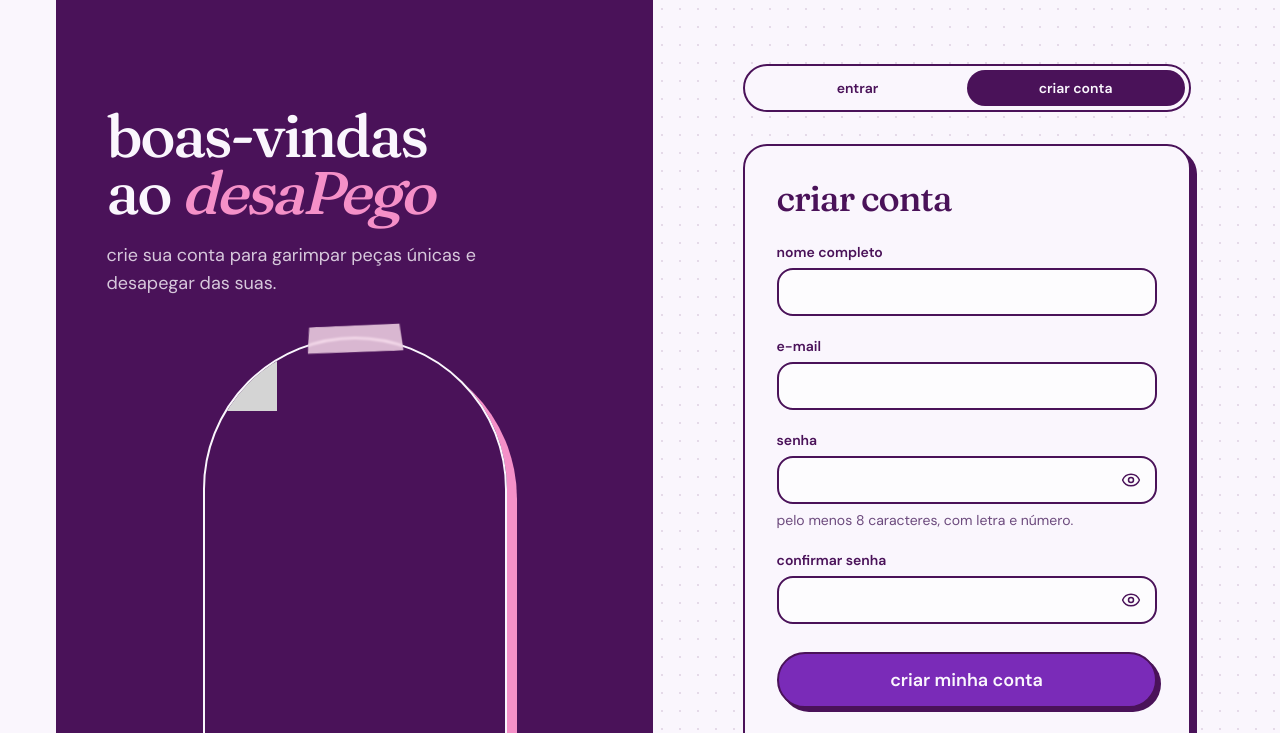
Test case: PaginaConta › mostra a mensagem do backend para e-mail já cadastrado
Type "Ana Souza" into the field labelled "nome completo" at (966, 292), box [776,268,1156,316]
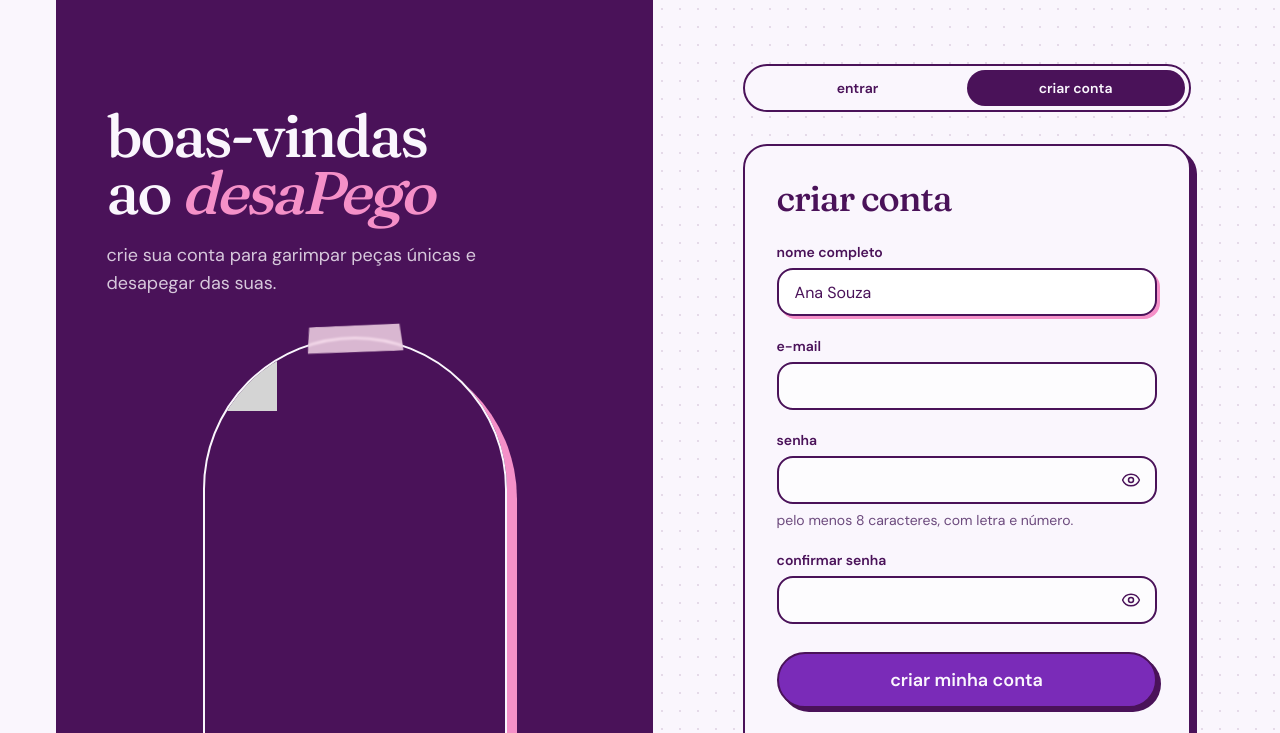
Type "ana@exemplo.com" into the field labelled "e-mail" at (966, 386), box [776,362,1156,410]
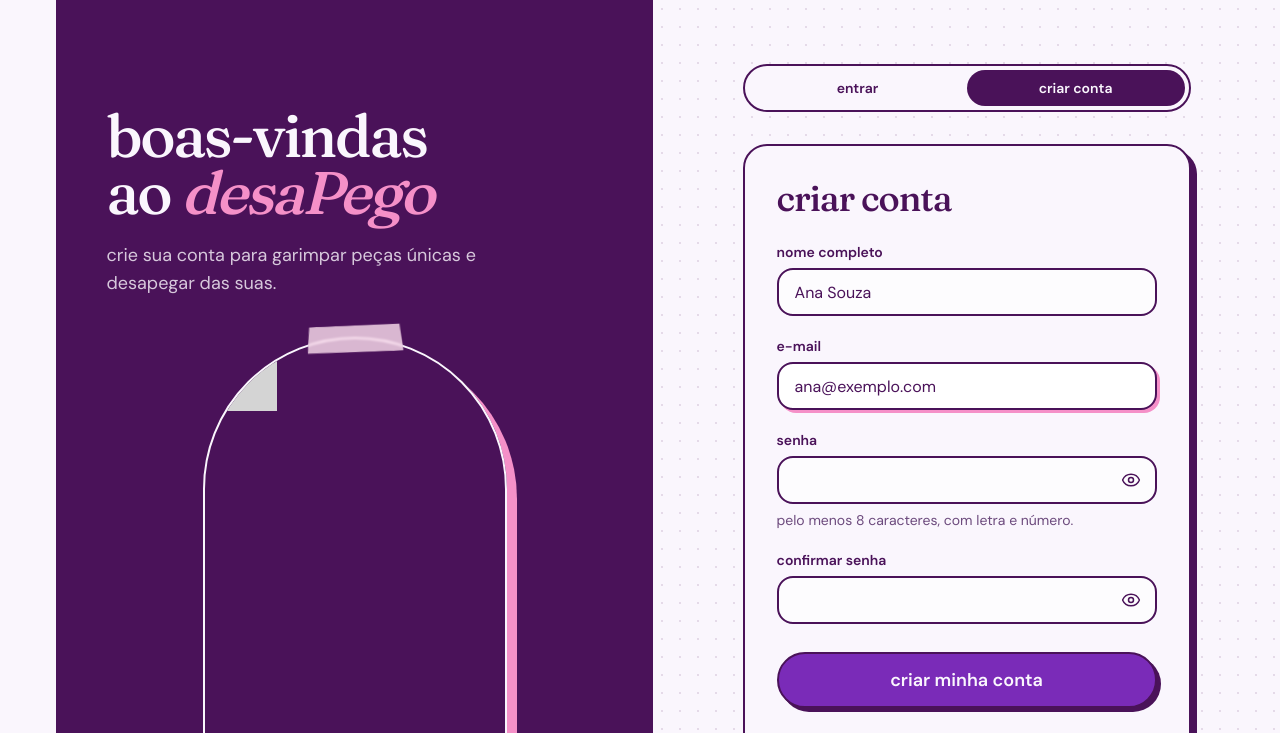
Type "garimpo123" into the password field labelled "senha" at (966, 480), box [776,456,1156,504]
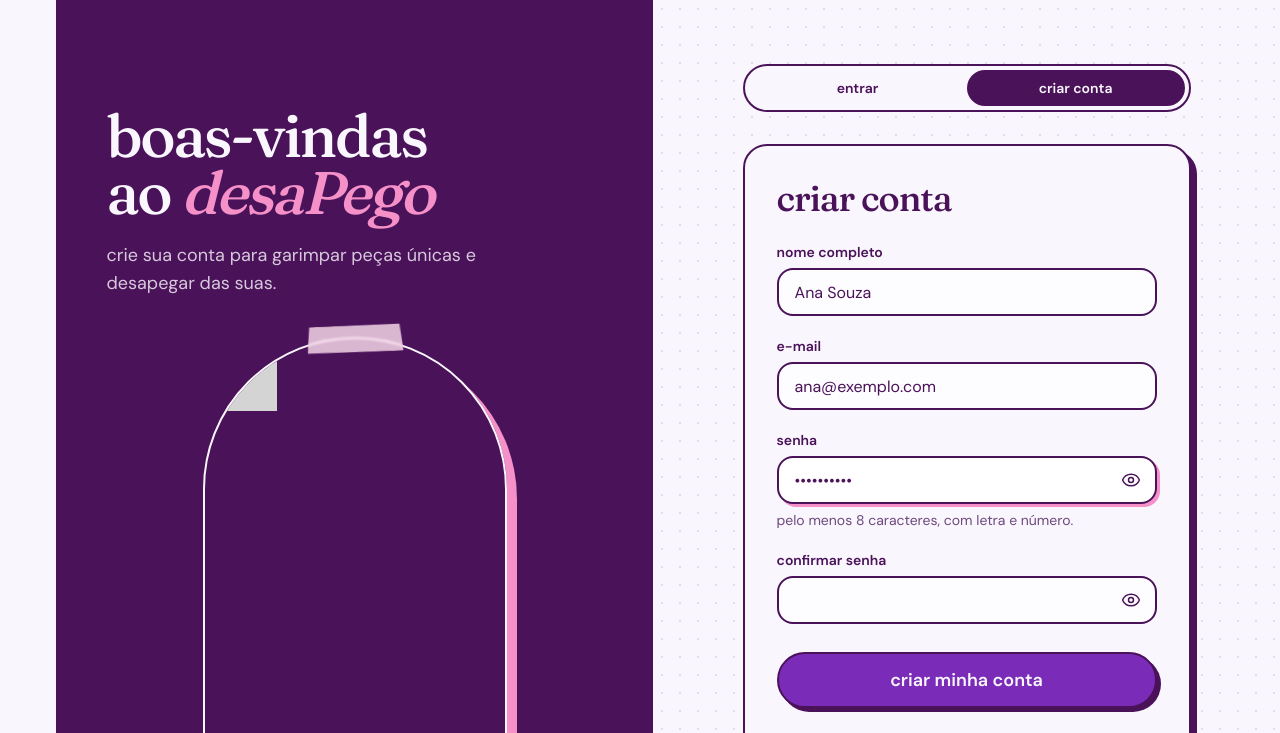
Type "garimpo123" into the password field labelled "confirmar senha" at (966, 600), box [776,576,1156,624]
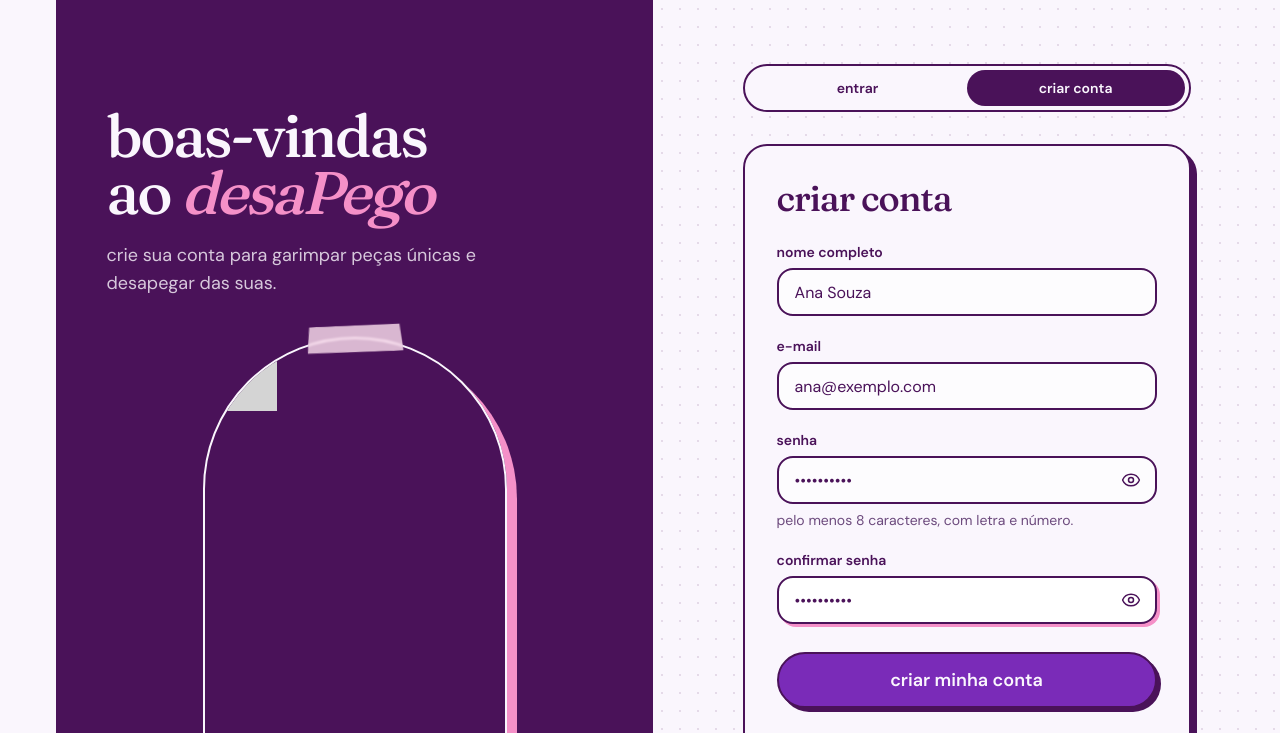
Click the button "criar minha conta" at (966, 680), box [776,652,1156,708]
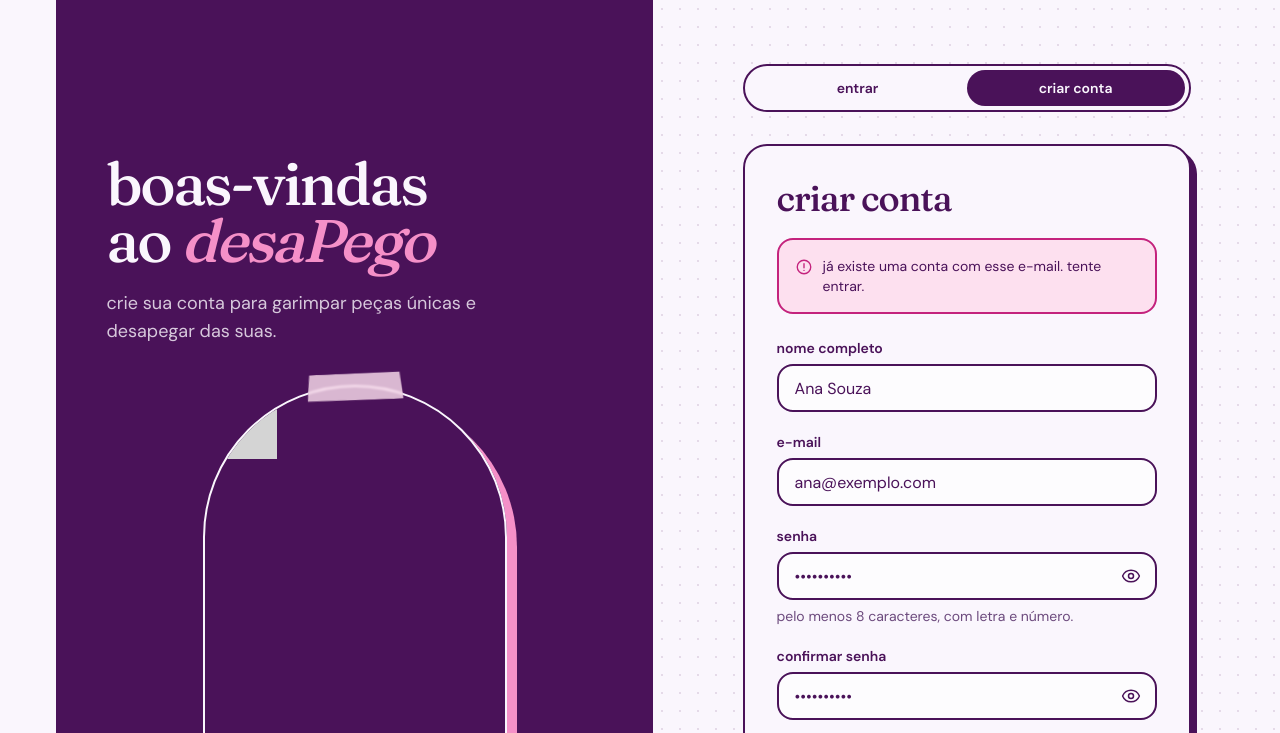
Check: the message reads "já existe uma conta com esse e-mail. tente entrar.", box [822,257,1101,295]
